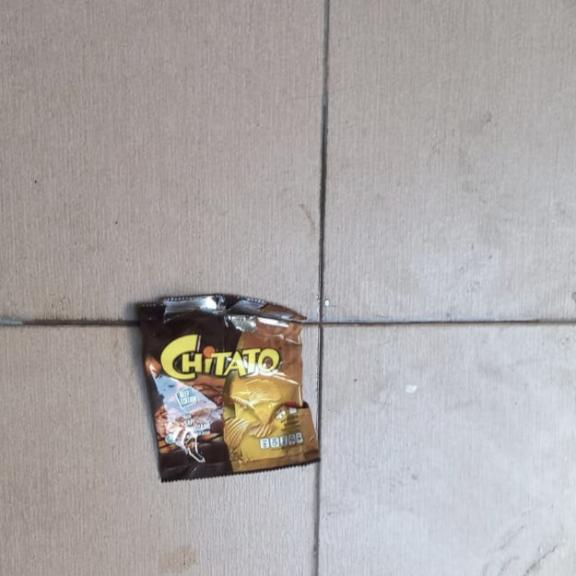Plastik: (135, 293, 322, 484)
